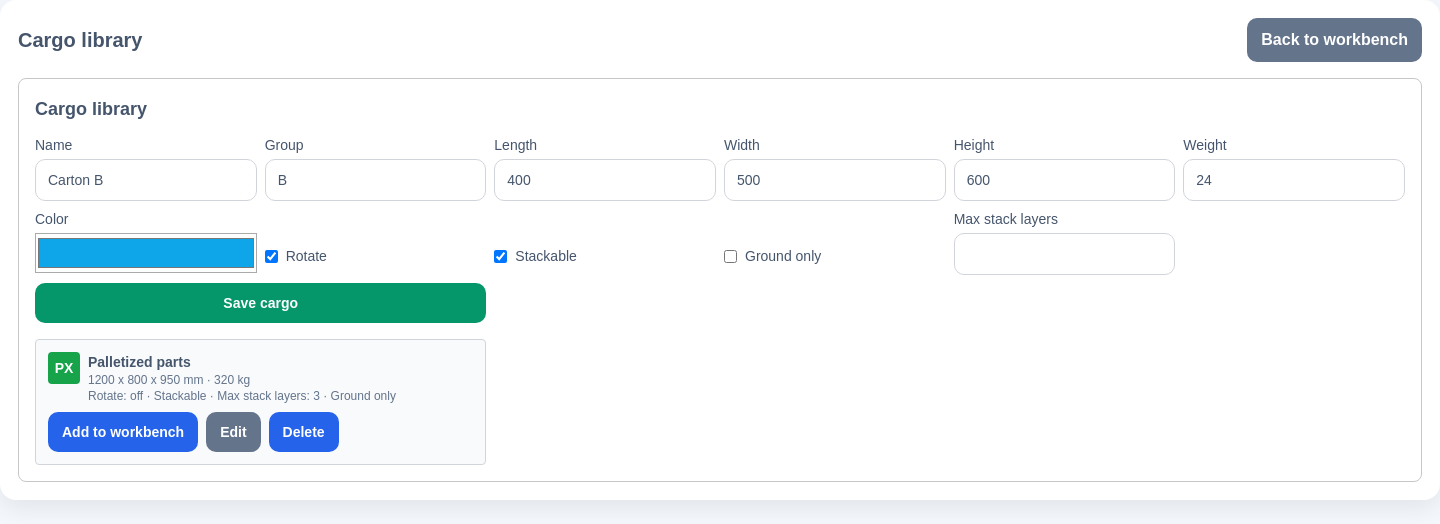
Test case: CargoLibraryPage › updates the selected definition and restores the create defaults after update or cancel
This screenshot has width=1440, height=524.
Click the button with test id "cargo-library-edit-cargo-1" at [233, 432], box [206, 412, 261, 452]
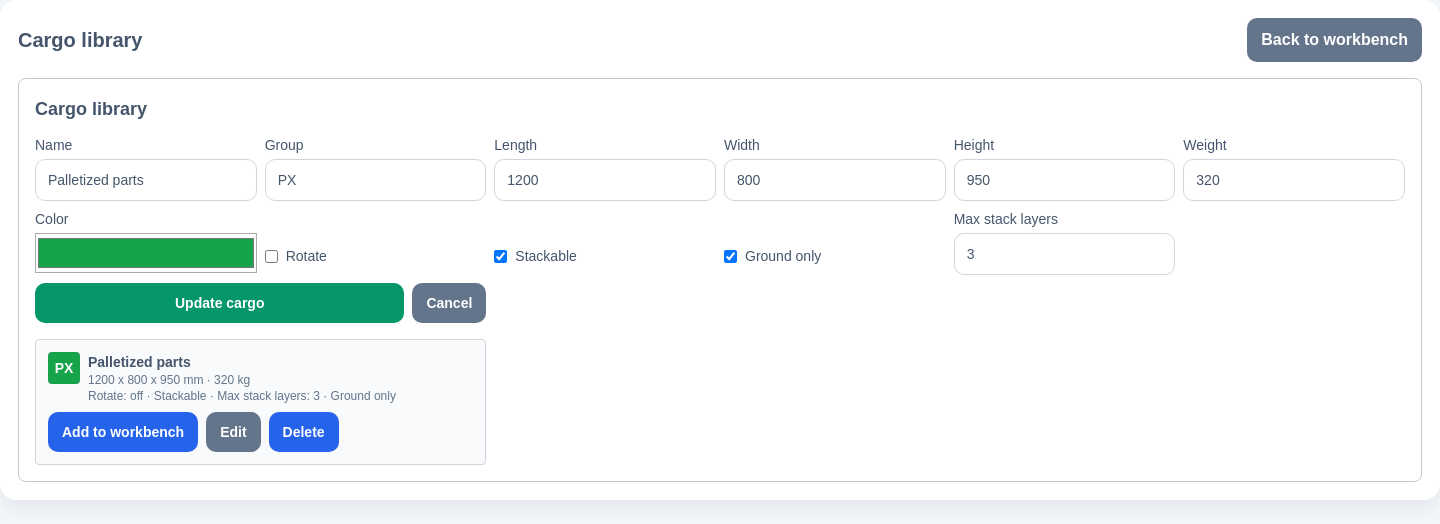
Now the field labelled "Name" holds "Palletized parts"
Now the field labelled "Group" holds "PX", box [265, 159, 486, 201]
Now the number field labelled "Max stack layers" holds "3", box [954, 233, 1175, 275]
Replace the text in the field labelled "Name" with "Updated parts" at [146, 180], box [35, 159, 257, 201]
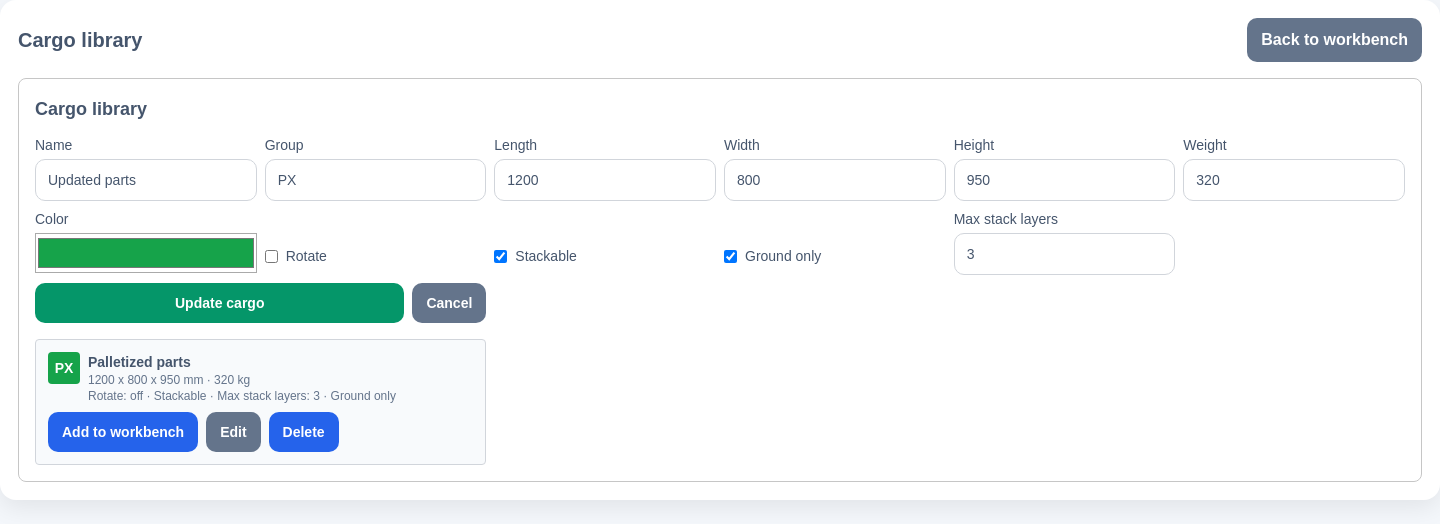
Click the button "Update cargo" at [220, 303], box [35, 283, 404, 323]
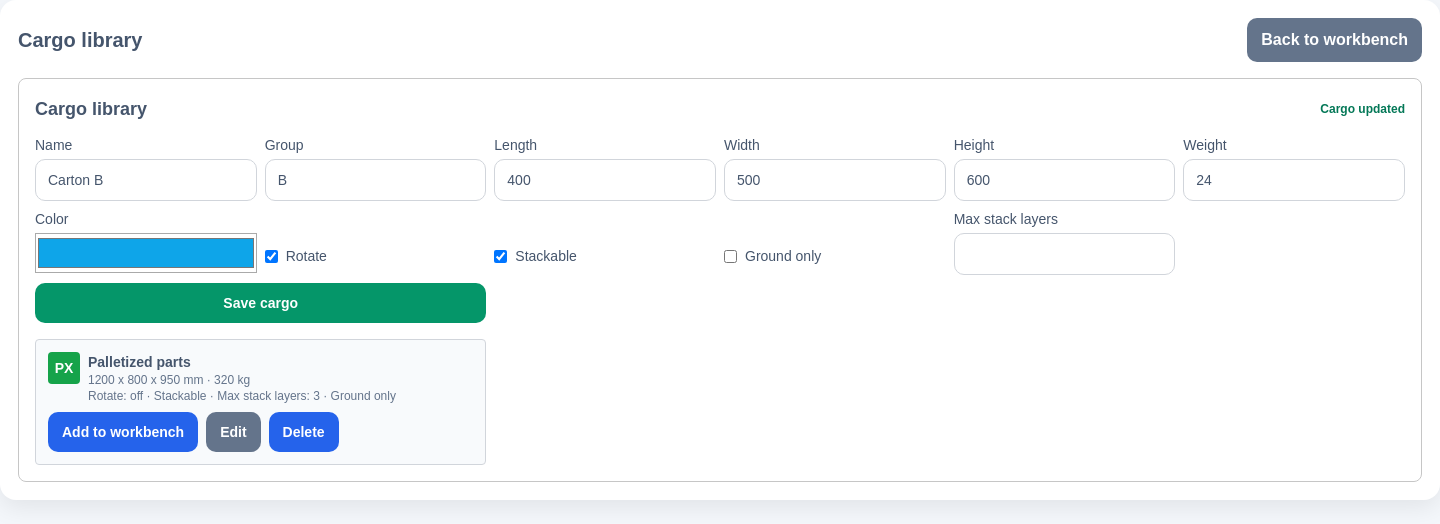
Now the text "Cargo updated" is shown, box [1320, 101, 1405, 117]
Now the field labelled "Name" holds "Carton B", box [35, 159, 257, 201]
Now the button "Save cargo" is shown, box [35, 283, 486, 323]
Click the button with test id "cargo-library-edit-cargo-1" at [233, 432], box [206, 412, 261, 452]
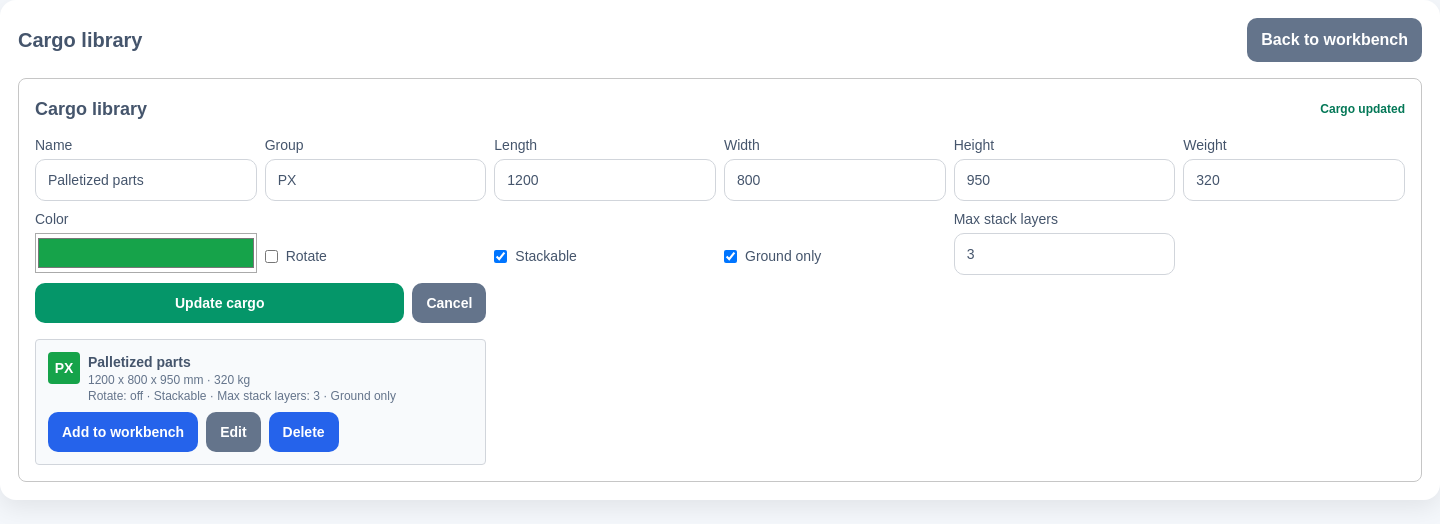
Replace the text in the field labelled "Name" with "Discard this edit" at [146, 180], box [35, 159, 257, 201]
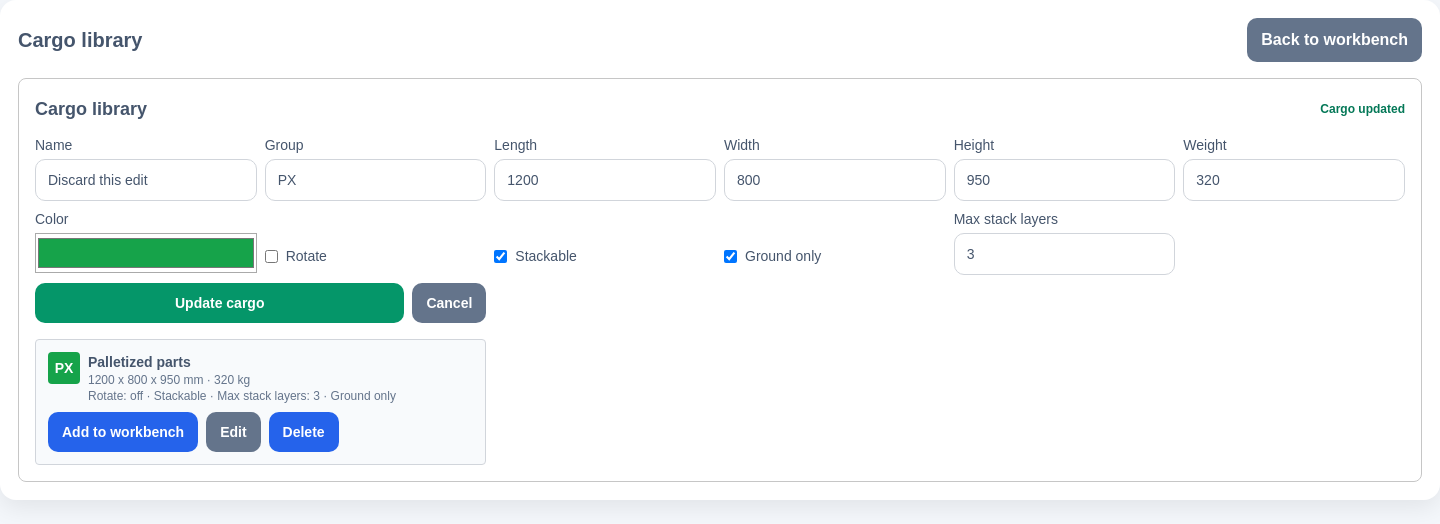
Click the button "Cancel" at [449, 303], box [412, 283, 486, 323]
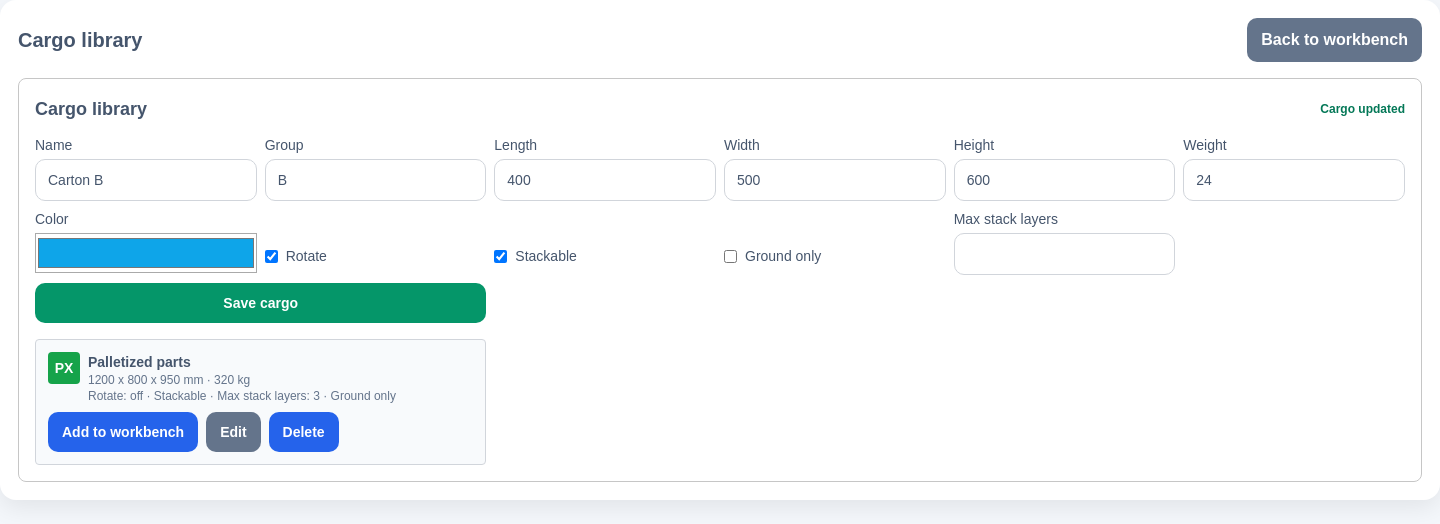
Now the field labelled "Name" holds "Carton B", box [35, 159, 257, 201]
Now the field labelled "Group" holds "B", box [265, 159, 486, 201]
Now the button "Save cargo" is shown, box [35, 283, 486, 323]
